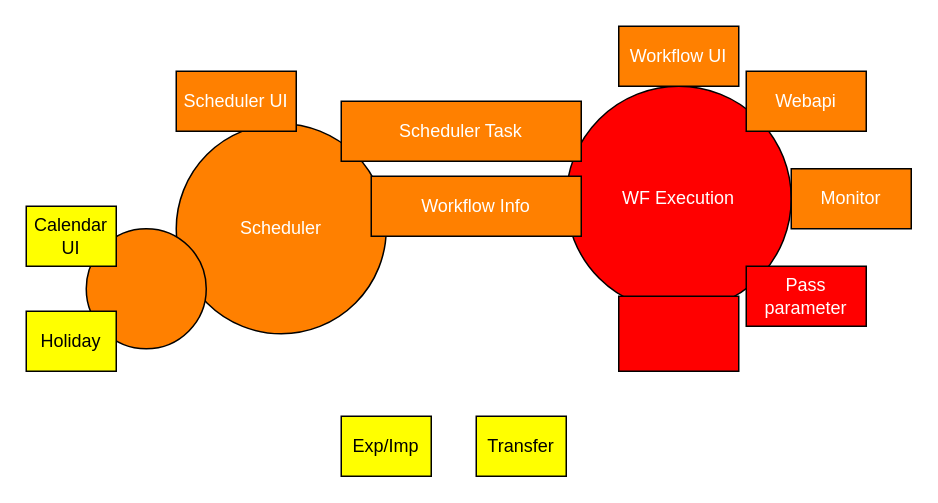
This 938x503 diagram has some shape labels left out. Each missing label, with the box of its shape:
Calendar: (85, 227, 206, 349)
Connectors to AP/EDP2: (617, 295, 739, 371)
